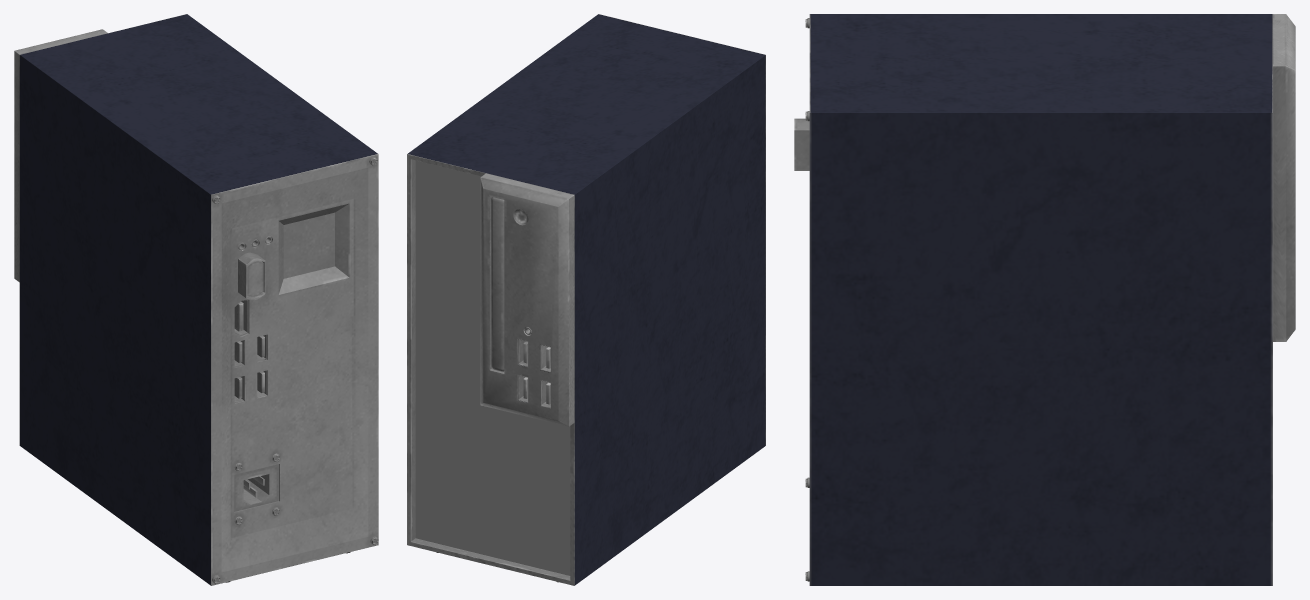
Rendered from computer.glb.
3 views of the same model, side by side, from view 1: azimuth 30°, elevation 25°; view 2: azimuth 150°, elevation 25°; view 3: azimuth 270°, elevation 25° (orthographic). The views are drawn at different scales.
Parts seen in each view (by area): view 1: SM_Computer; view 2: SM_Computer; view 3: SM_Computer.
Part boxes in pixels (box(x1,y1,x2,y2)): SM_Computer: box(14, 14, 378, 585); SM_Computer: box(407, 14, 765, 585); SM_Computer: box(794, 14, 1295, 585).
Bounding box in the file's own units: 0.1726 × 0.3914 × 0.3695.
1 material, 1 textured.
